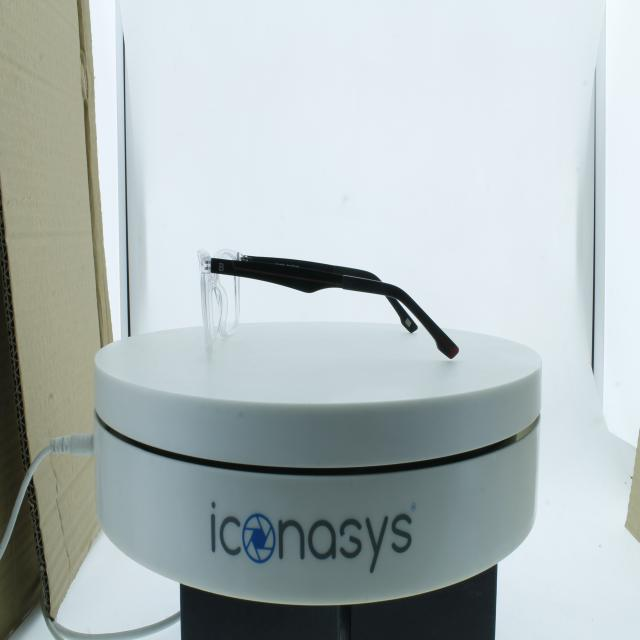Specs: (188, 232, 468, 384)
